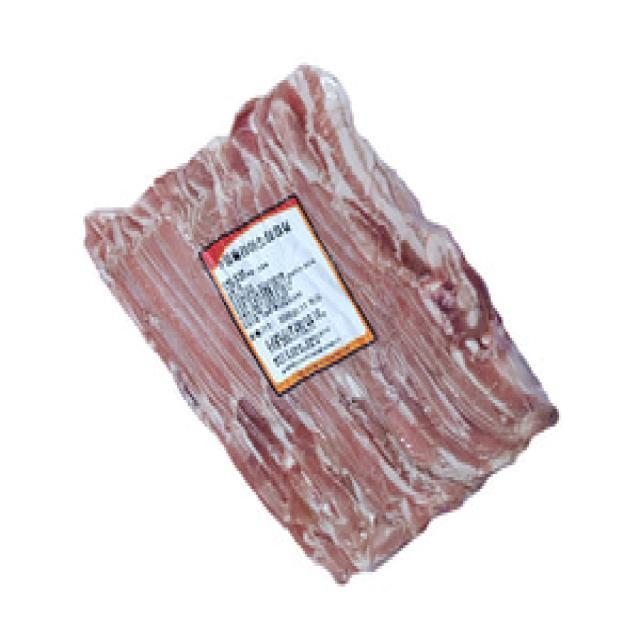pork: (56, 88, 578, 580)
